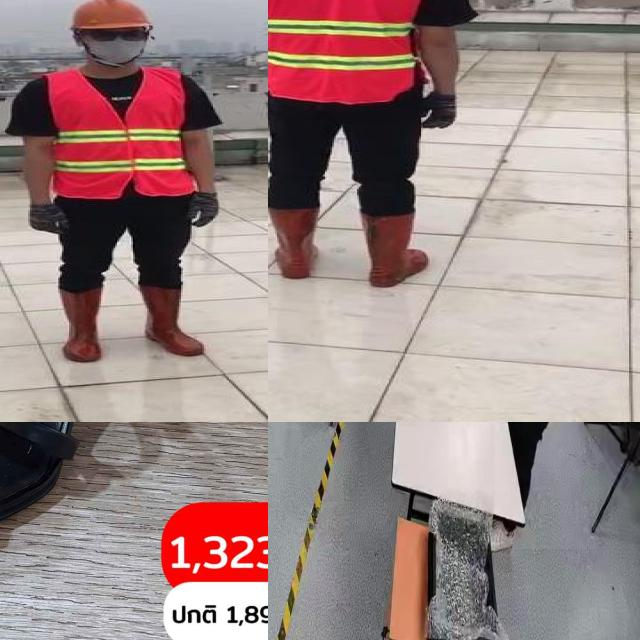Sandals: (0, 422, 268, 608)
boots: (359, 209, 430, 289), (138, 286, 213, 359), (54, 286, 107, 364), (268, 208, 326, 279)
face_mask: (83, 26, 147, 62)
glasses: (83, 28, 147, 43)
hand_glove: (25, 202, 67, 235), (422, 95, 457, 133), (188, 192, 218, 225), (268, 83, 277, 119)
head_helmet: (67, 0, 152, 31)
person: (1, 0, 232, 373), (268, 0, 465, 294), (494, 422, 599, 550)
vest: (46, 69, 193, 197), (268, 0, 424, 102)
